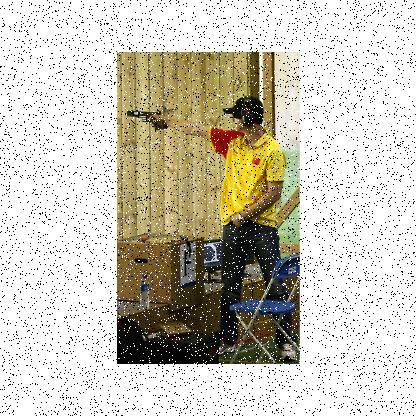gun: (124, 108, 167, 130)
